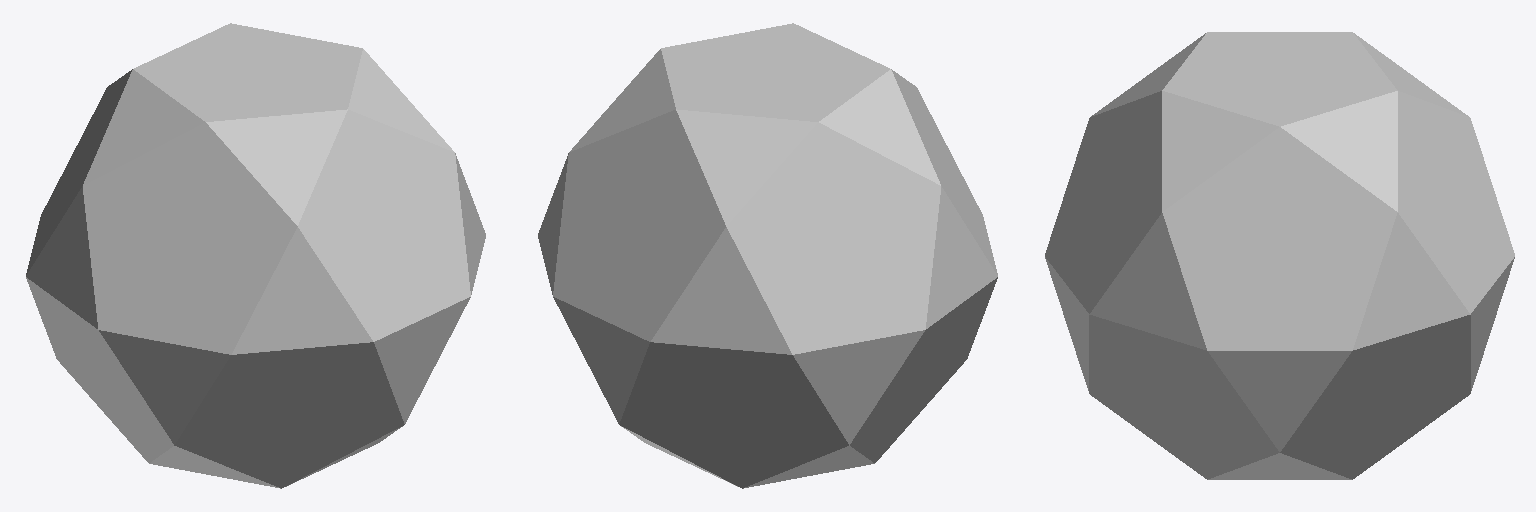
The model's file is Ore_1.obj.
The picture shows the model from 3 angles: view 1: azimuth 30°, elevation 25°; view 2: azimuth 150°, elevation 25°; view 3: azimuth 270°, elevation 25°; orthographic projection.
Parts seen in each view (by area): view 1: Ore_Icosphere.013; view 2: Ore_Icosphere.013; view 3: Ore_Icosphere.013.
Boxes of the visible parts, x1=… form: Ore_Icosphere.013: x1=26, y1=23, x2=485, y2=488; Ore_Icosphere.013: x1=538, y1=23, x2=997, y2=488; Ore_Icosphere.013: x1=1045, y1=32, x2=1514, y2=479.
Size of the model in its own units: 0.0951 by 0.0851 by 0.1.